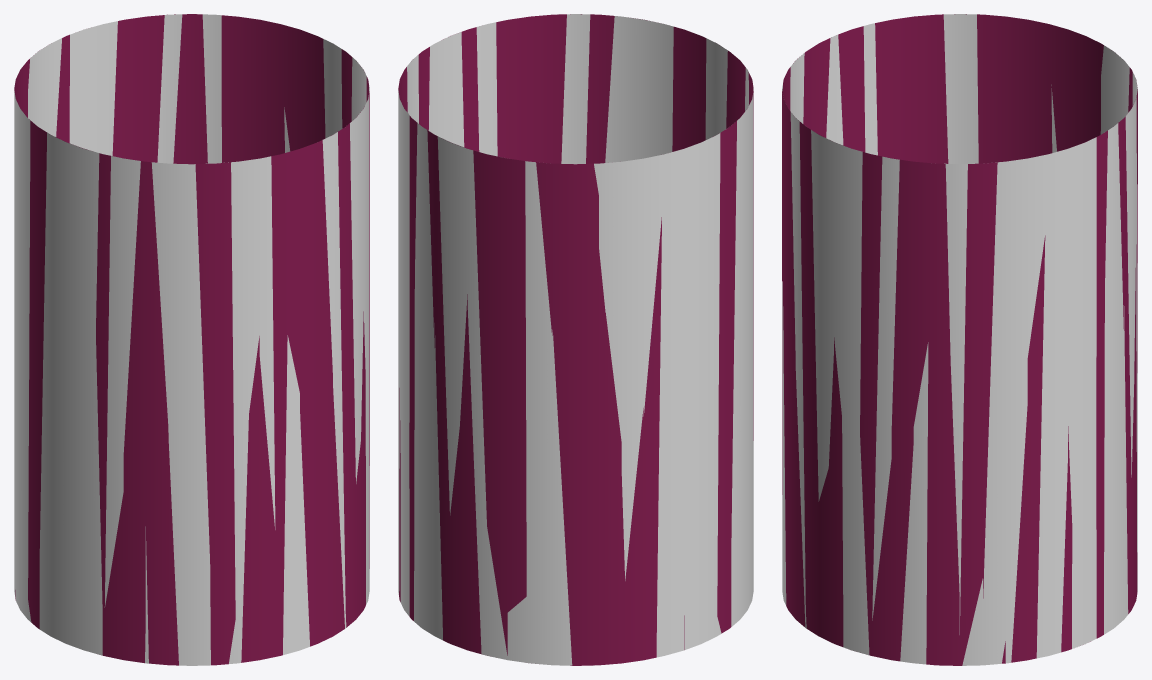
File: original_2.obj
3 renders of one model, left to right at view 1: azimuth 30°, elevation 25°; view 2: azimuth 150°, elevation 25°; view 3: azimuth 270°, elevation 25°, orthographic.
Parts seen in each view (by area): view 1: #ID235; view 2: #ID235; view 3: #ID235.
Boxes of the visible parts, bbox=[...] form: #ID235: bbox=[14, 14, 369, 665]; #ID235: bbox=[398, 14, 753, 665]; #ID235: bbox=[782, 14, 1137, 665].
Size of the model in its own units: 0.5582 by 0.8692 by 0.5583.
